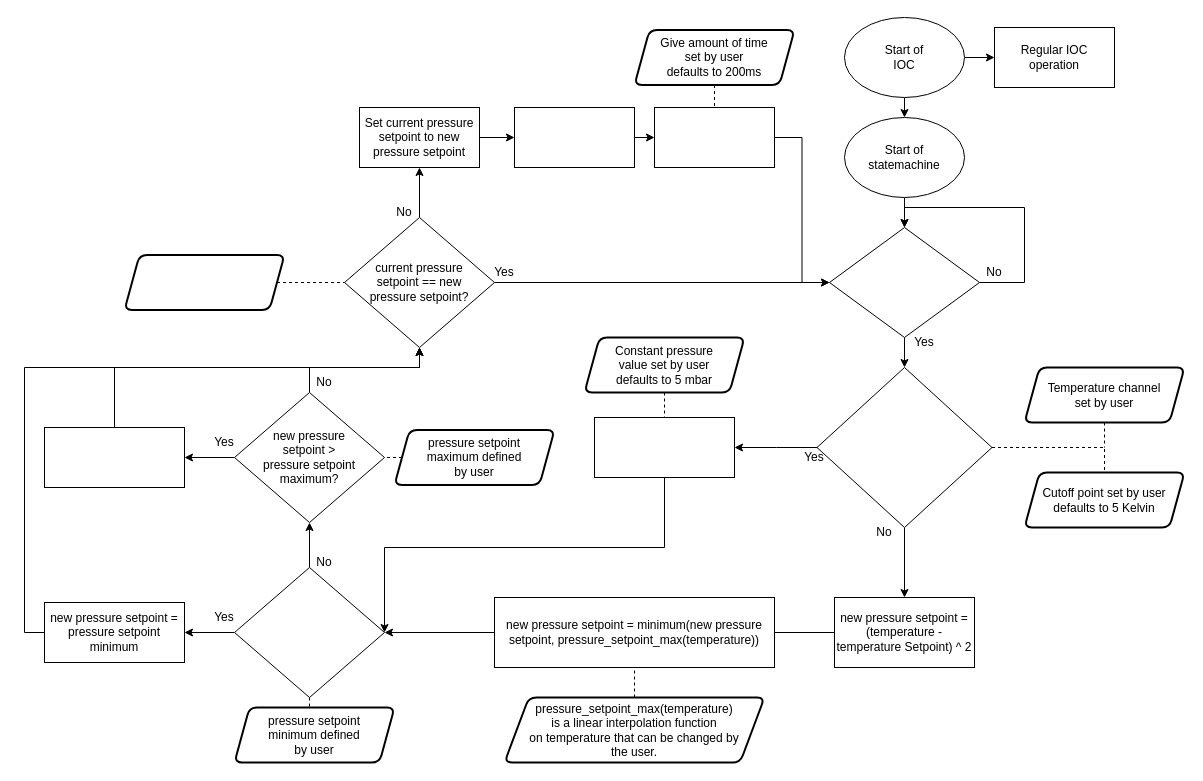
This 1203x781 diagram has some shape labels left out. The centre of each missing label's shape, as x and y in pixels:
"Automated pressure control mode selected?" belongs at pixel 904 282.
"Delay for a given amount of time to avoid overloading device" belongs at pixel 714 137.
"new pressure setpoint < pressure setpoint minmum?" belongs at pixel 309 632.
"new pressure setpoint = constant pressure value" belongs at pixel 664 447.
"new pressure setpoint = pressure setpoint maximum" belongs at pixel 114 457.
"Pressure channel set by user" belongs at pixel 204 282.
"Send current pressure setpoint to device" belongs at pixel 574 137.
"temperature <= temperature Setpoint? Or temperature setpoint <= cutoff point?" belongs at pixel 904 447.
